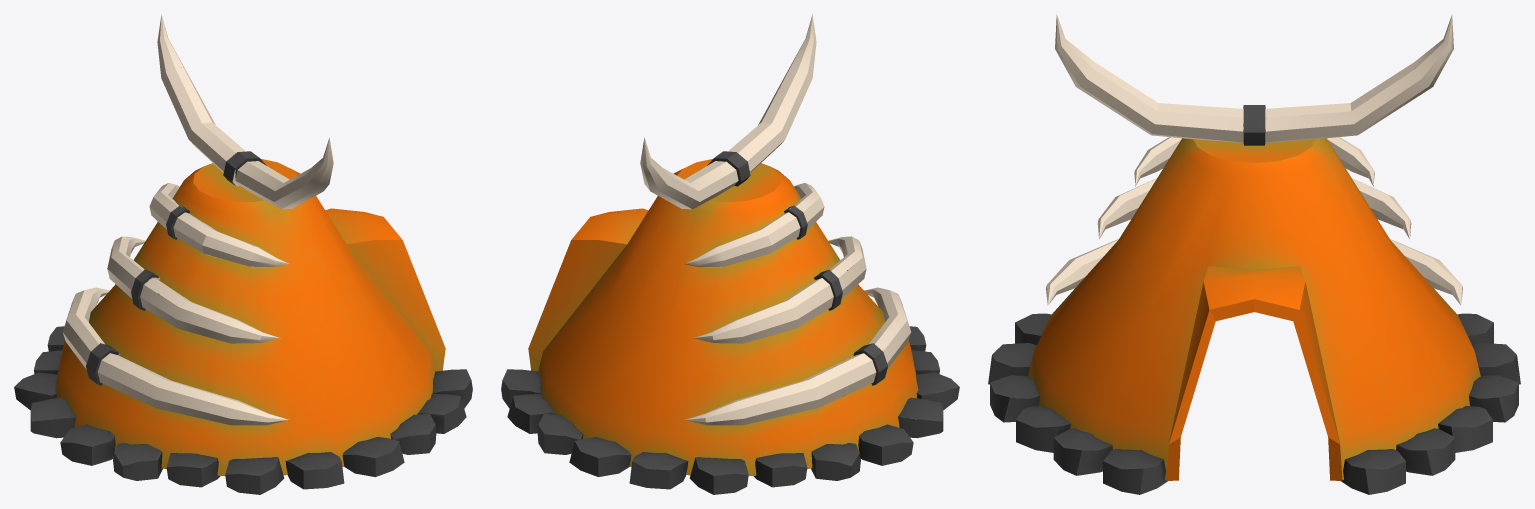
File: Barrack Age 1.fbx
3 views of the same model, side by side, from view 1: azimuth 30°, elevation 25°; view 2: azimuth 150°, elevation 25°; view 3: azimuth 270°, elevation 25° (orthographic). The views are drawn at different scales.
Parts seen in each view (by area): view 1: Barrack_Age_1; view 2: Barrack_Age_1; view 3: Barrack_Age_1.
Part boxes in pixels (left/top/right/bottom): Barrack_Age_1: left=14, top=14, right=472, bottom=494; Barrack_Age_1: left=501, top=14, right=959, bottom=494; Barrack_Age_1: left=988, top=14, right=1520, bottom=494.
Size of the model in its own units: 424 by 347 by 440.
